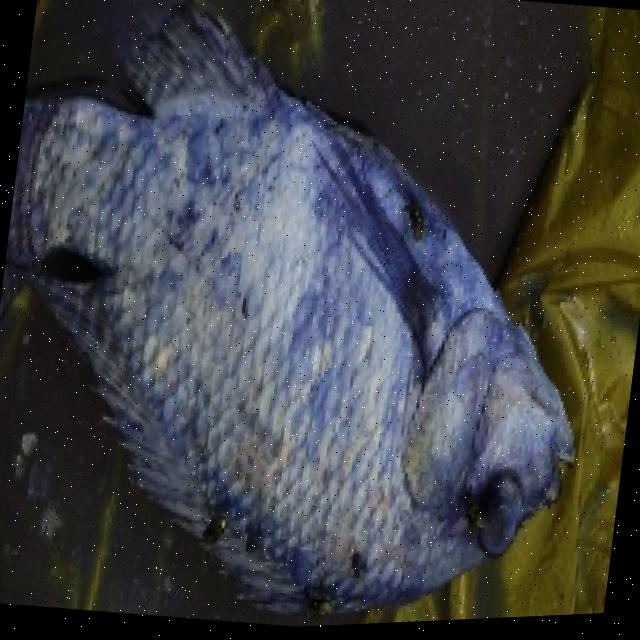Non-Fresh: (0, 36, 620, 640)
